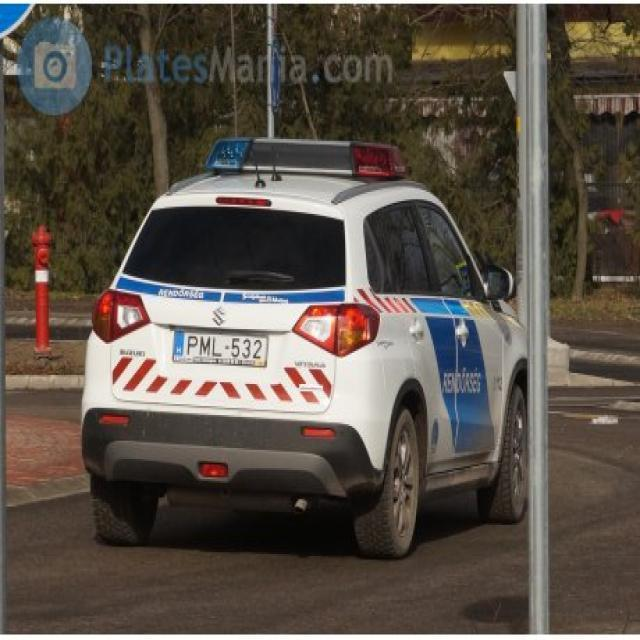licence: (172, 325, 270, 372)
